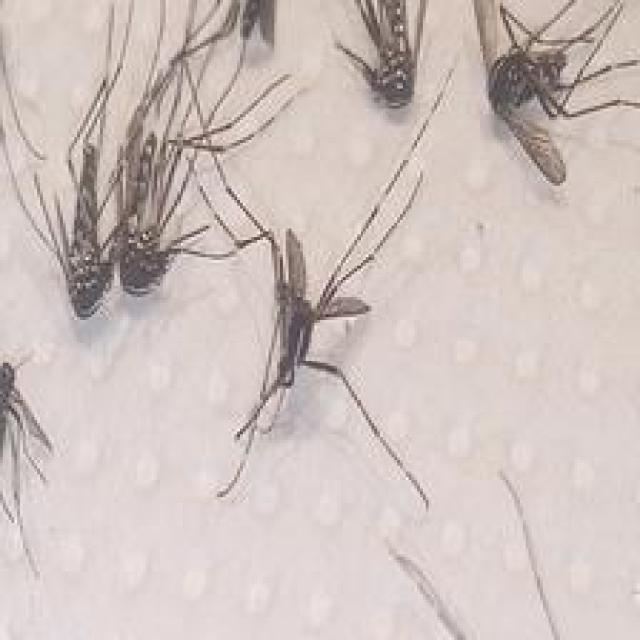Aedes albopictus: (0, 0, 303, 320)
